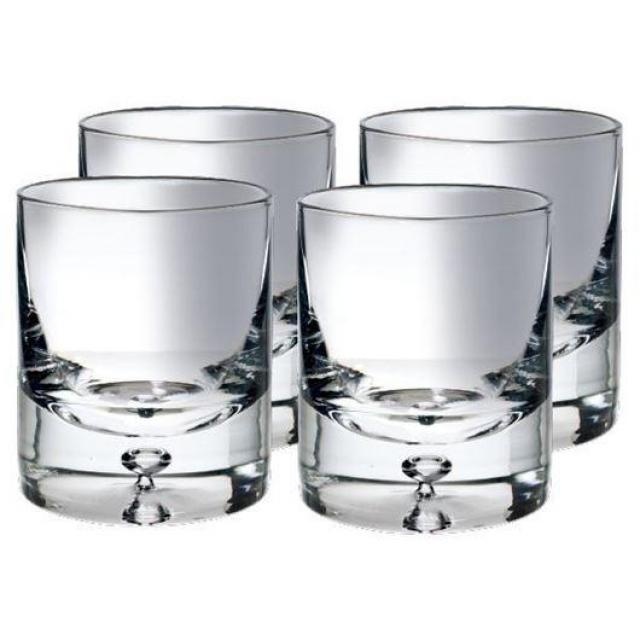non-organic waste: (13, 174, 278, 526)
